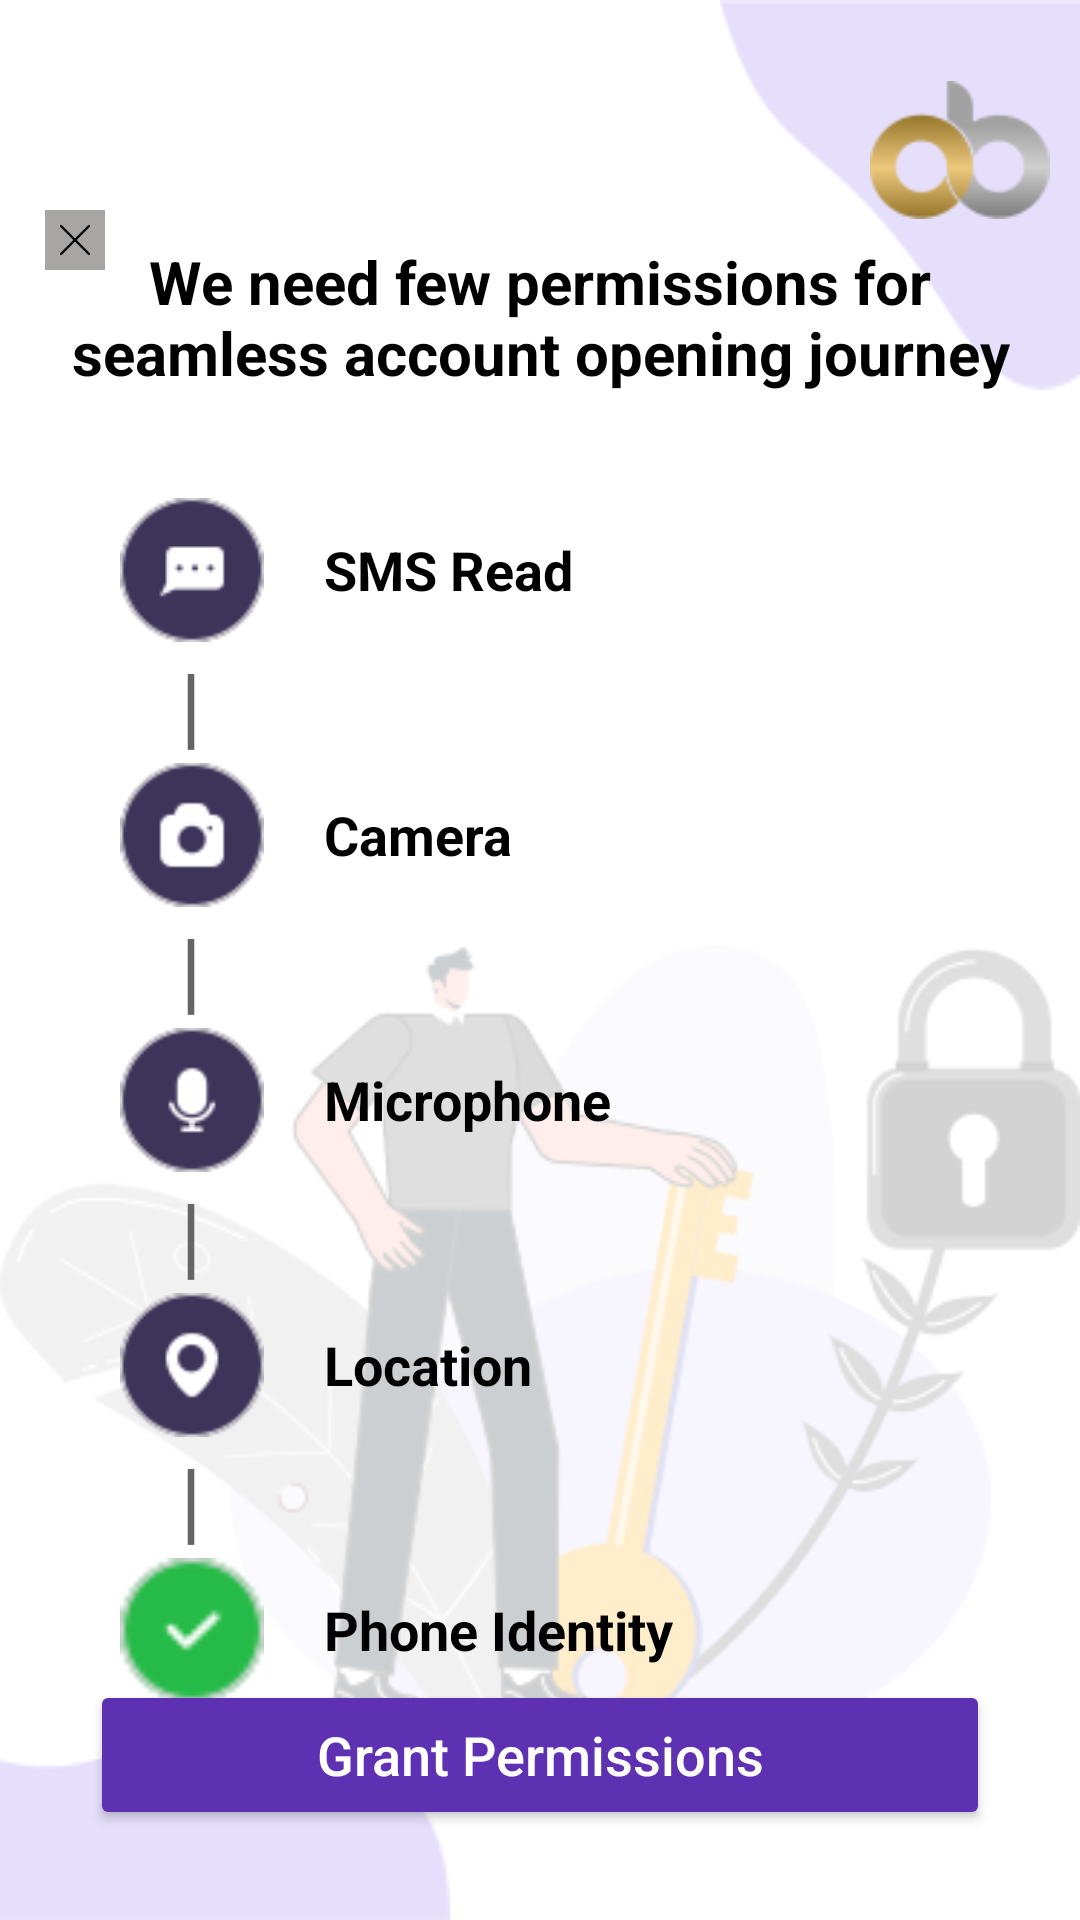

Named icons in this screenshot (1080×1920) and their bounding boxes, (x1, y1, x2, y2):
cancel: (45, 210, 105, 270)
mic: (120, 1028, 264, 1172)
tick: (120, 1558, 264, 1702)
